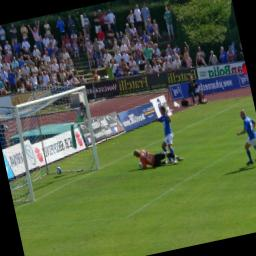football: (56, 166, 62, 174)
